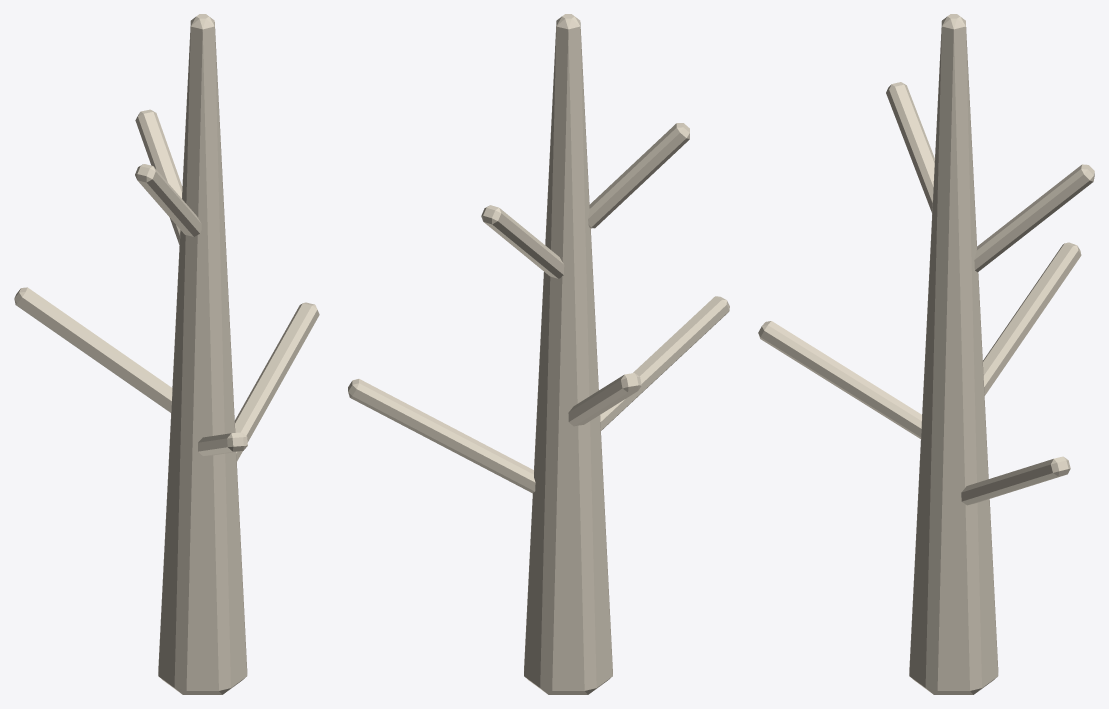
Rendered from pine_bleached_small.glb.
The picture shows the model from 3 angles, left to right: view 1: azimuth 30°, elevation 25°; view 2: azimuth 150°, elevation 25°; view 3: azimuth 270°, elevation 25°; orthographic projection.
Parts seen in each view (by area): view 1: Trunk, Limb2, Limb1, Limb5, Limb4, Limb3; view 2: Trunk, Limb1, Limb3, Limb5, Limb4, Limb2; view 3: Trunk, Limb3, Limb2, Limb4, Limb5, Limb1.
Boxes of the visible parts, <box> form: Trunk: <box>158,14,247,694</box>; Limb2: <box>14,287,172,412</box>; Limb1: <box>234,302,319,461</box>; Limb5: <box>135,164,201,236</box>; Limb4: <box>135,109,182,244</box>; Limb3: <box>198,432,247,455</box>; Trunk: <box>524,14,612,694</box>; Limb1: <box>348,379,535,493</box>; Limb3: <box>600,296,729,430</box>; Limb5: <box>588,123,689,228</box>; Limb4: <box>481,205,564,278</box>; Limb2: <box>568,373,641,426</box>; Trunk: <box>909,14,998,694</box>; Limb3: <box>758,321,921,438</box>; Limb2: <box>983,242,1081,395</box>; Limb4: <box>974,164,1094,272</box>; Limb5: <box>886,82,934,213</box>; Limb1: <box>961,456,1070,505</box>.
Size of the model in its own units: 0.4913 by 1.05 by 0.4824.
